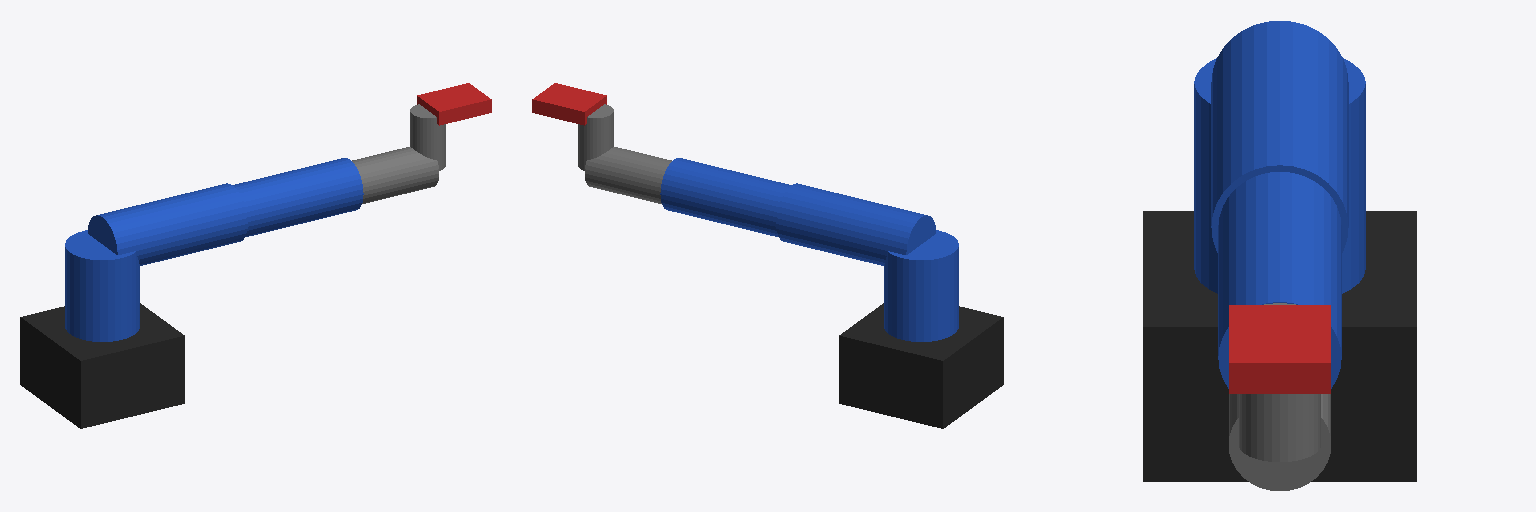
robot.urdf — xarm_1s:
<?xml version="1.0"?>
<robot name="xarm_1s" xmlns:xacro="http://www.ros.org/wiki/xacro">
  
  <!-- This is a TEMPLATE - replace with actual URDF from ROS2Xarm repo -->
  <!-- The xArm 1S typically has 6 servos -->
  
  <!-- Base Link -->
  <link name="arm_base">
    <visual>
      <geometry>
        <box size="0.08 0.08 0.05"/>
      </geometry>
      <material name="black">
        <color rgba="0.2 0.2 0.2 1.0"/>
      </material>
    </visual>
    <collision>
      <geometry>
        <box size="0.08 0.08 0.05"/>
      </geometry>
    </collision>
    <inertial>
      <mass value="0.1"/>
      <inertia ixx="0.001" ixy="0.0" ixz="0.0" iyy="0.001" iyz="0.0" izz="0.001"/>
    </inertial>
  </link>

  <!-- Joint 1 - Base rotation -->
  <joint name="joint1" type="revolute">
    <parent link="arm_base"/>
    <child link="link1"/>
    <origin xyz="0 0 0.025" rpy="0 0 0"/>
    <axis xyz="0 0 1"/>
    <limit lower="-3.14" upper="3.14" effort="10.0" velocity="1.0"/>
  </joint>

  <link name="link1">
    <visual>
      <origin xyz="0 0 0.03" rpy="0 0 0"/>
      <geometry>
        <cylinder radius="0.025" length="0.06"/>
      </geometry>
      <material name="blue">
        <color rgba="0.2 0.4 0.8 1.0"/>
      </material>
    </visual>
    <collision>
      <origin xyz="0 0 0.03" rpy="0 0 0"/>
      <geometry>
        <cylinder radius="0.025" length="0.06"/>
      </geometry>
    </collision>
    <inertial>
      <mass value="0.05"/>
      <inertia ixx="0.0001" ixy="0.0" ixz="0.0" iyy="0.0001" iyz="0.0" izz="0.0001"/>
    </inertial>
  </link>

  <!-- Joint 2 - Shoulder -->
  <joint name="joint2" type="revolute">
    <parent link="link1"/>
    <child link="link2"/>
    <origin xyz="0 0 0.06" rpy="0 0 0"/>
    <axis xyz="0 1 0"/>
    <limit lower="-1.57" upper="1.57" effort="10.0" velocity="1.0"/>
  </joint>

  <link name="link2">
    <visual>
      <origin xyz="0.05 0 0" rpy="0 1.57 0"/>
      <geometry>
        <cylinder radius="0.02" length="0.10"/>
      </geometry>
      <material name="blue"/>
    </visual>
    <collision>
      <origin xyz="0.05 0 0" rpy="0 1.57 0"/>
      <geometry>
        <cylinder radius="0.02" length="0.10"/>
      </geometry>
    </collision>
    <inertial>
      <mass value="0.05"/>
      <inertia ixx="0.0001" ixy="0.0" ixz="0.0" iyy="0.0001" iyz="0.0" izz="0.0001"/>
    </inertial>
  </link>

  <!-- Joint 3 - Elbow -->
  <joint name="joint3" type="revolute">
    <parent link="link2"/>
    <child link="link3"/>
    <origin xyz="0.10 0 0" rpy="0 0 0"/>
    <axis xyz="0 1 0"/>
    <limit lower="-1.57" upper="1.57" effort="10.0" velocity="1.0"/>
  </joint>

  <link name="link3">
    <visual>
      <origin xyz="0.045 0 0" rpy="0 1.57 0"/>
      <geometry>
        <cylinder radius="0.018" length="0.09"/>
      </geometry>
      <material name="blue"/>
    </visual>
    <collision>
      <origin xyz="0.045 0 0" rpy="0 1.57 0"/>
      <geometry>
        <cylinder radius="0.018" length="0.09"/>
      </geometry>
    </collision>
    <inertial>
      <mass value="0.04"/>
      <inertia ixx="0.0001" ixy="0.0" ixz="0.0" iyy="0.0001" iyz="0.0" izz="0.0001"/>
    </inertial>
  </link>

  <!-- Joint 4 - Wrist 1 -->
  <joint name="joint4" type="revolute">
    <parent link="link3"/>
    <child link="link4"/>
    <origin xyz="0.09 0 0" rpy="0 0 0"/>
    <axis xyz="0 1 0"/>
    <limit lower="-1.57" upper="1.57" effort="5.0" velocity="1.0"/>
  </joint>

  <link name="link4">
    <visual>
      <origin xyz="0.03 0 0" rpy="0 1.57 0"/>
      <geometry>
        <cylinder radius="0.015" length="0.06"/>
      </geometry>
      <material name="grey">
        <color rgba="0.5 0.5 0.5 1.0"/>
      </material>
    </visual>
    <collision>
      <origin xyz="0.03 0 0" rpy="0 1.57 0"/>
      <geometry>
        <cylinder radius="0.015" length="0.06"/>
      </geometry>
    </collision>
    <inertial>
      <mass value="0.03"/>
      <inertia ixx="0.00005" ixy="0.0" ixz="0.0" iyy="0.00005" iyz="0.0" izz="0.00005"/>
    </inertial>
  </link>

  <!-- Joint 5 - Wrist 2 -->
  <joint name="joint5" type="revolute">
    <parent link="link4"/>
    <child link="link5"/>
    <origin xyz="0.06 0 0" rpy="0 0 0"/>
    <axis xyz="1 0 0"/>
    <limit lower="-1.57" upper="1.57" effort="5.0" velocity="1.0"/>
  </joint>

  <link name="link5">
    <visual>
      <origin xyz="0 0 0.02" rpy="0 0 0"/>
      <geometry>
        <cylinder radius="0.012" length="0.04"/>
      </geometry>
      <material name="grey"/>
    </visual>
    <collision>
      <origin xyz="0 0 0.02" rpy="0 0 0"/>
      <geometry>
        <cylinder radius="0.012" length="0.04"/>
      </geometry>
    </collision>
    <inertial>
      <mass value="0.02"/>
      <inertia ixx="0.00002" ixy="0.0" ixz="0.0" iyy="0.00002" iyz="0.0" izz="0.00002"/>
    </inertial>
  </link>

  <!-- Joint 6 - Gripper rotation -->
  <joint name="joint6" type="revolute">
    <parent link="link5"/>
    <child link="gripper_link"/>
    <origin xyz="0 0 0.04" rpy="0 0 0"/>
    <axis xyz="0 0 1"/>
    <limit lower="-3.14" upper="3.14" effort="5.0" velocity="1.0"/>
  </joint>

  <link name="gripper_link">
    <visual>
      <origin xyz="0.02 0 0" rpy="0 0 0"/>
      <geometry>
        <box size="0.04 0.03 0.01"/>
      </geometry>
      <material name="red">
        <color rgba="0.8 0.2 0.2 1.0"/>
      </material>
    </visual>
    <collision>
      <origin xyz="0.02 0 0" rpy="0 0 0"/>
      <geometry>
        <box size="0.04 0.03 0.01"/>
      </geometry>
    </collision>
    <inertial>
      <mass value="0.01"/>
      <inertia ixx="0.00001" ixy="0.0" ixz="0.0" iyy="0.00001" iyz="0.0" izz="0.00001"/>
    </inertial>
  </link>

  <!-- End effector frame for planning -->
  <joint name="gripper_to_ee" type="fixed">
    <parent link="gripper_link"/>
    <child link="end_effector"/>
    <origin xyz="0.04 0 0" rpy="0 0 0"/>
  </joint>

  <link name="end_effector"/>

</robot>

--- What the picture shows (computed from the rendered views, not written in the file) ---
3 views of the same robot in one strip: view 1: azimuth 30°, elevation 25°; view 2: azimuth 150°, elevation 25°; view 3: azimuth 270°, elevation 25° (orthographic).
Model xarm_1s with 8 links and 7 joints (6 revolute, 1 fixed), rooted at arm_base, posed all joints at 0.
Links seen in each view (by area): view 1: arm_base, link2, link1, link3, link4, gripper_link, link5; view 2: arm_base, link2, link1, link3, link4, gripper_link, link5; view 3: arm_base, link2, link3, gripper_link, link1, link5, link4.
Boxes of the visible links, x1,y1,x2,y2 form: arm_base: (20,303,184,428); link2: (88,183,247,265); link1: (65,230,139,341); link3: (233,158,363,236); link4: (352,147,438,203); gripper_link: (417,83,491,125); link5: (410,104,445,170); arm_base: (839,303,1003,428); link2: (776,183,935,265); link1: (884,230,958,341); link3: (660,158,790,236); link4: (585,147,671,203); gripper_link: (532,83,606,125); link5: (578,104,613,170); arm_base: (1143,211,1416,481); link2: (1211,21,1348,252); link3: (1218,172,1341,388); gripper_link: (1229,305,1330,393); link1: (1194,58,1365,293); link5: (1239,303,1320,461); link4: (1229,394,1330,490).
Size in the robot's own frame: 0.33 by 0.08 by 0.155 metres.
Geometry: primitives only (box / cylinder / sphere), no mesh files.
